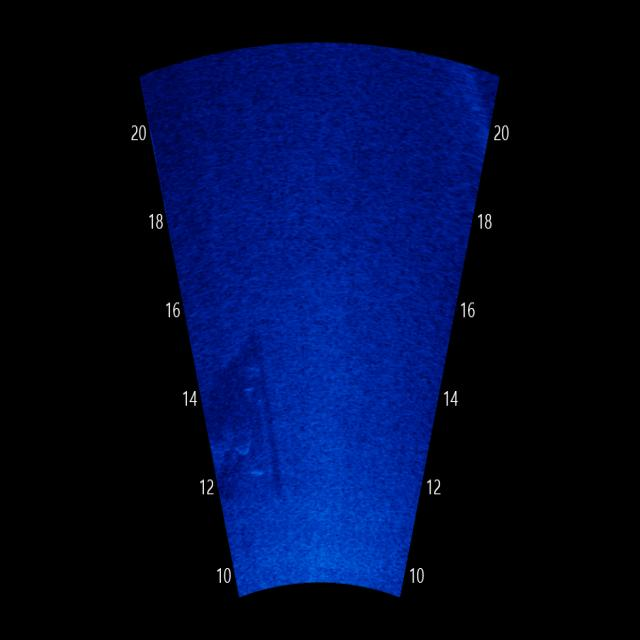triangle: (202, 327, 293, 510)
